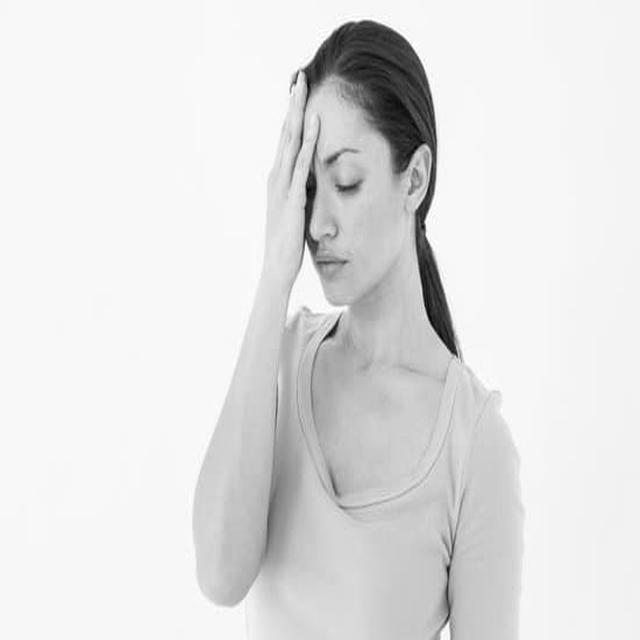Sadness: (304, 97, 382, 304)
